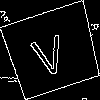V: (27, 25, 69, 78)
